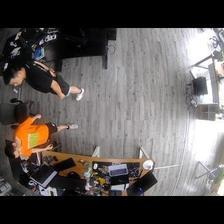normal: (4, 59, 85, 102), (5, 113, 78, 159)
